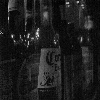beer: (39, 3, 63, 100)
